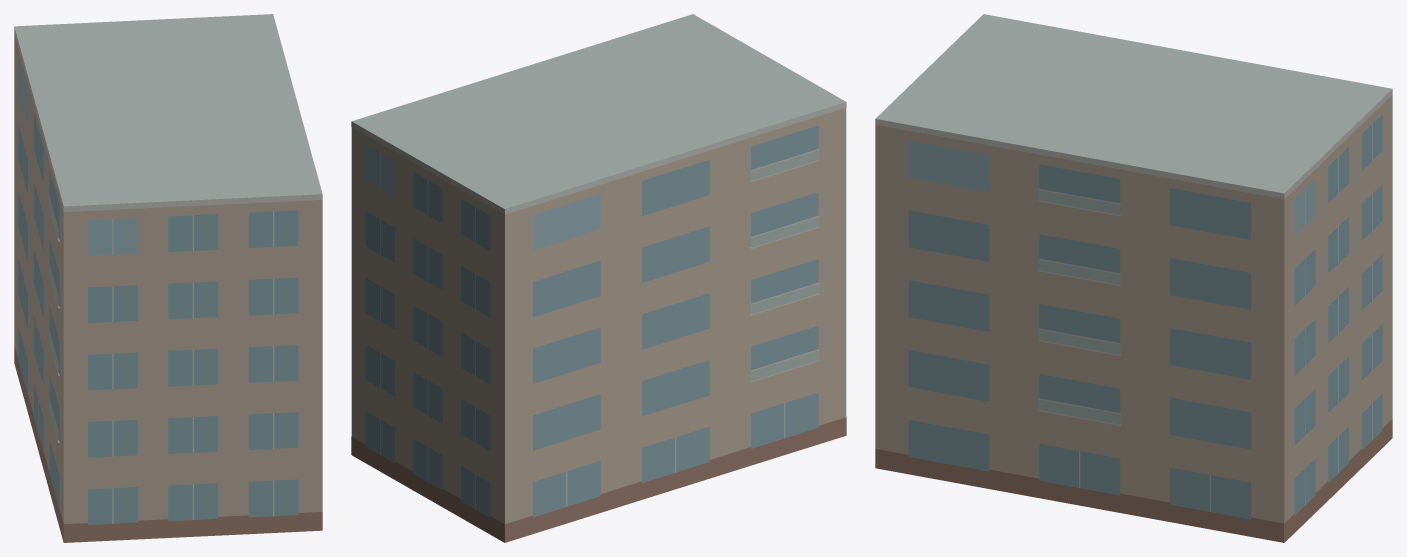
Rendered from survey-upis-33017838.glb.
3 renders of one model, left to right at view 1: azimuth 30°, elevation 25°; view 2: azimuth 150°, elevation 25°; view 3: azimuth 270°, elevation 25°, orthographic. The views are drawn at different scales.
Visible parts, largest first — view 1: survey-upis-33017838.tmp; view 2: survey-upis-33017838.tmp; view 3: survey-upis-33017838.tmp.
Boxes of the visible parts, left/top/right/bottom form: survey-upis-33017838.tmp: left=14, top=14, right=322, bottom=542; survey-upis-33017838.tmp: left=351, top=14, right=846, bottom=542; survey-upis-33017838.tmp: left=875, top=14, right=1392, bottom=542.
Bounding box in the file's own units: 15.87 × 14.4 × 19.33.
